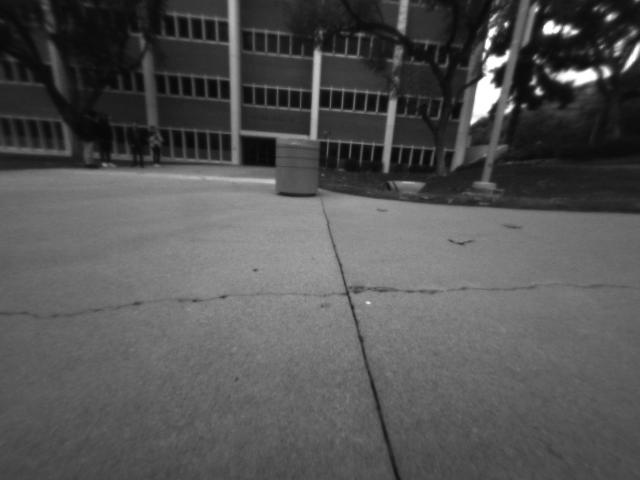trashcan: (266, 125, 323, 200)
